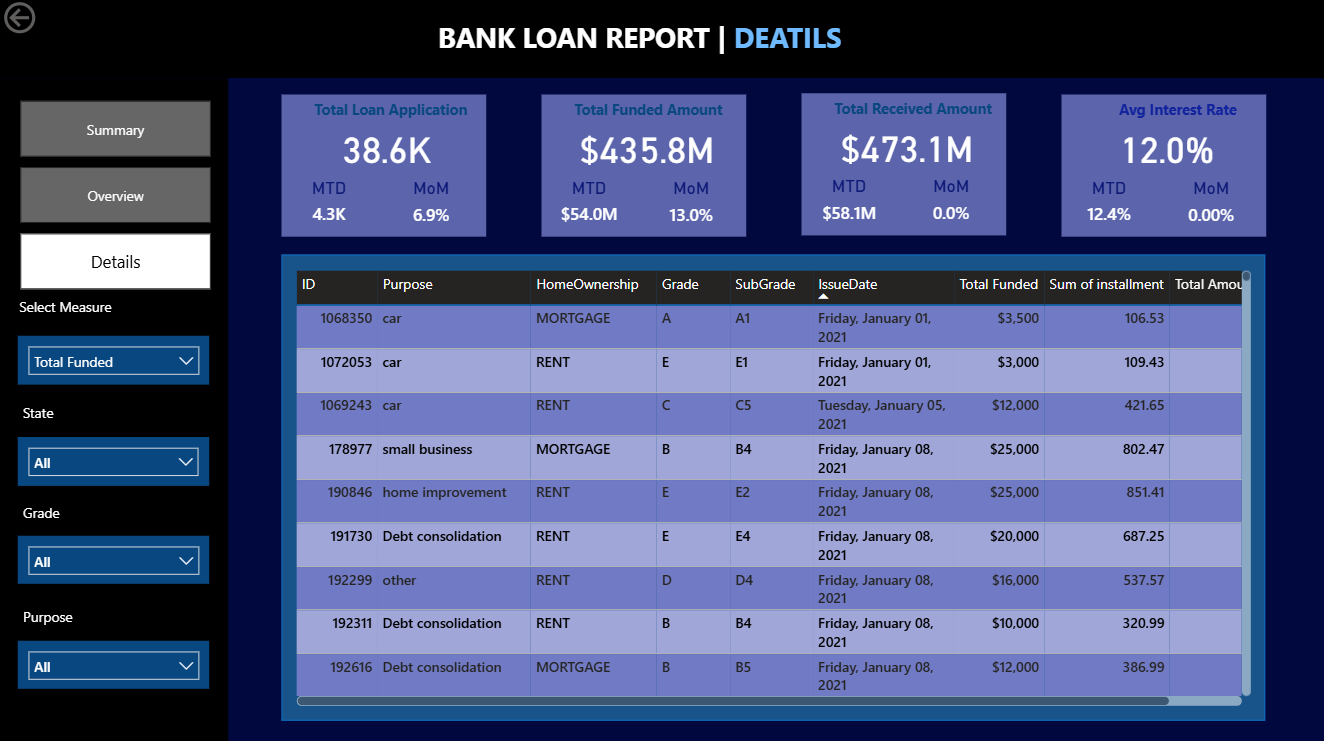

Layout of this report page (visuals, bound fields, positions):
{"tool":"powerbi","page":{"name":"Details","canvas":[1280,720],"ordinal":2},"visuals":[{"type":"shape","box":[0,78.8,221.2,641.2],"z":0},{"type":"shape","box":[774.4,93.3,197.6,137.2],"z":0,"group":"g3"},{"type":"shape","box":[273.1,94.7,197.6,137.2],"z":0,"group":"g1"},{"type":"shape","box":[523.7,94.7,197.6,137.2],"z":0,"group":"g2"},{"type":"shape","box":[1025,94.7,197.6,137.2],"z":0,"group":"g4"},{"type":"shape","box":[0,0,1280.3,78.2],"z":1000},{"type":"card","fields":{"Values":["bank_loan_data.Total Amount Received"]},"box":[792.2,116.6,167.4,56.3],"z":1000,"group":"g3"},{"type":"card","fields":{"Values":["bank_loan_data.Total Loan Application"]},"box":[290.9,118,167.4,56.3],"z":1000,"group":"g1"},{"type":"card","fields":{"Values":["bank_loan_data.Total Funded"]},"box":[541.5,118,167.4,56.3],"z":1000,"group":"g2"},{"type":"card","fields":{"Values":["bank_loan_data.Avg Interest Rate"]},"box":[1042.8,118,167.4,56.3],"z":1000,"group":"g4"},{"type":"textbox","box":[800.5,93.3,171.5,37],"z":2000,"group":"g3"},{"type":"textbox","box":[299.2,94.7,171.5,37],"z":2000,"group":"g1"},{"type":"textbox","box":[549.8,94.7,171.5,37],"z":2000,"group":"g2"},{"type":"textbox","box":[1051.1,94.7,171.5,37],"z":2000,"group":"g4"},{"type":"textbox","box":[17.5,387.5,56.2,37.5],"z":2000},{"type":"textbox","box":[418.5,15.1,441.9,45.3],"z":3000},{"type":"card","title":"MTD","fields":{"Values":["bank_loan_data.MTD Total Amount Recieved"]},"box":[774.4,172.9,91.9,56.3],"z":3000,"group":"g3"},{"type":"card","title":"MTD","fields":{"Values":["bank_loan_data.MTD Loan Application"]},"box":[273.1,174.3,91.9,56.3],"z":3000,"group":"g1"},{"type":"card","title":"MTD","fields":{"Values":["bank_loan_data.MTD Funded Amount"]},"box":[523.7,174.3,91.9,56.3],"z":3000,"group":"g2"},{"type":"card","title":"MTD","fields":{"Values":["bank_loan_data.MTD Avg Int Rate"]},"box":[1025,174.3,91.9,56.3],"z":3000,"group":"g4"},{"type":"group","id":"g1","title":"Group 1","box":[273.1,94.7,197.6,137.2],"z":4000},{"type":"card","title":"MoM","fields":{"Values":["bank_loan_data.MoM Total Recieved Amount"]},"box":[875.9,172.9,86.4,57.6],"z":4000,"group":"g3"},{"type":"card","title":"MoM","fields":{"Values":["bank_loan_data.MoM Loan Application"]},"box":[374.6,174.3,86.4,57.6],"z":4000,"group":"g1"},{"type":"card","title":"MoM","fields":{"Values":["bank_loan_data.MoM Total Funded Amount"]},"box":[625.2,174.3,86.4,57.6],"z":4000,"group":"g2"},{"type":"card","title":"MoM","fields":{"Values":["bank_loan_data.MoM Avg Int Rate"]},"box":[1126.5,174.3,86.4,57.6],"z":4000,"group":"g4"},{"type":"group","id":"g2","title":"Group 1","box":[523.7,94.7,197.6,137.2],"z":5000},{"type":"group","id":"g3","title":"Group 1","box":[774.4,93.3,197.6,137.2],"z":6000},{"type":"group","id":"g4","title":"Group 1","box":[1025,94.7,197.6,137.2],"z":7000},{"type":"slicer","fields":{"Values":["bank_loan_data.address_state"]},"box":[18.1,424.7,184.6,47.1],"z":8000},{"type":"slicer","fields":{"Values":["bank_loan_data.grade"]},"box":[17.5,520,185,46.2],"z":9000},{"type":"slicer","fields":{"Values":["bank_loan_data.purpose"]},"box":[17.5,621.2,185,46.2],"z":10000},{"type":"textbox","box":[17.5,483.8,61.2,37.5],"z":11000},{"type":"textbox","box":[17.5,583.8,93.8,37.5],"z":12000},{"type":"slicer","fields":{"Values":["Select Measure.Select Measure"]},"box":[17.5,327.5,185,47.5],"z":13000},{"type":"shape","box":[272.7,248.5,949.5,450],"z":14000},{"type":"textbox","box":[15,285,112.5,42.5],"z":15000},{"type":"tableEx","fields":{"Values":["bank_loan_data.id","bank_loan_data.purpose","bank_loan_data.home_ownership","bank_loan_data.grade","bank_loan_data.sub_grade","bank_loan_data.issue_date","bank_loan_data.Total Funded","Sum(bank_loan_data.installment)","bank_loan_data.Total Amount Received"]},"box":[281.1,259.4,932.6,429.5],"z":16000},{"type":"actionButton","box":[0,0,100,40],"z":17000},{"type":"pageNavigator","box":[20.5,100.1,184.6,184.6],"z":18000}]}

Visuals, with their boxes in screenshot pixels (x1, y1, x2, y2), scaled from the page's 1280x720 canvas onto the 1324x741 screenshot:
shape: bbox=[0, 81, 229, 740]
shape: bbox=[801, 96, 1005, 237]
shape: bbox=[282, 97, 487, 239]
shape: bbox=[542, 97, 746, 239]
shape: bbox=[1060, 97, 1265, 239]
shape: bbox=[0, 0, 1323, 80]
card - bank_loan_data.Total Amount Received: bbox=[819, 120, 993, 178]
card - bank_loan_data.Total Loan Application: bbox=[301, 121, 474, 179]
card - bank_loan_data.Total Funded: bbox=[560, 121, 733, 179]
card - bank_loan_data.Avg Interest Rate: bbox=[1079, 121, 1252, 179]
textbox: bbox=[828, 96, 1005, 134]
textbox: bbox=[309, 97, 487, 136]
textbox: bbox=[569, 97, 746, 136]
textbox: bbox=[1087, 97, 1265, 136]
textbox: bbox=[18, 399, 76, 437]
textbox: bbox=[433, 16, 890, 62]
"MTD" card: bbox=[801, 178, 896, 236]
"MTD" card: bbox=[282, 179, 378, 237]
"MTD" card: bbox=[542, 179, 637, 237]
"MTD" card: bbox=[1060, 179, 1155, 237]
"Group 1" group: bbox=[282, 97, 487, 239]
"MoM" card: bbox=[906, 178, 995, 237]
"MoM" card: bbox=[387, 179, 477, 239]
"MoM" card: bbox=[647, 179, 736, 239]
"MoM" card: bbox=[1165, 179, 1255, 239]
"Group 1" group: bbox=[542, 97, 746, 239]
"Group 1" group: bbox=[801, 96, 1005, 237]
"Group 1" group: bbox=[1060, 97, 1265, 239]
slicer - bank_loan_data.address_state: bbox=[19, 437, 210, 486]
slicer - bank_loan_data.grade: bbox=[18, 535, 209, 583]
slicer - bank_loan_data.purpose: bbox=[18, 639, 209, 687]
textbox: bbox=[18, 498, 81, 537]
textbox: bbox=[18, 601, 115, 639]
slicer - Select Measure.Select Measure: bbox=[18, 337, 209, 386]
shape: bbox=[282, 256, 1264, 719]
textbox: bbox=[16, 293, 132, 337]
tableEx - bank_loan_data.id x bank_loan_data.purpose: bbox=[291, 267, 1255, 709]
actionButton: bbox=[0, 0, 103, 41]
pageNavigator: bbox=[21, 103, 212, 293]
